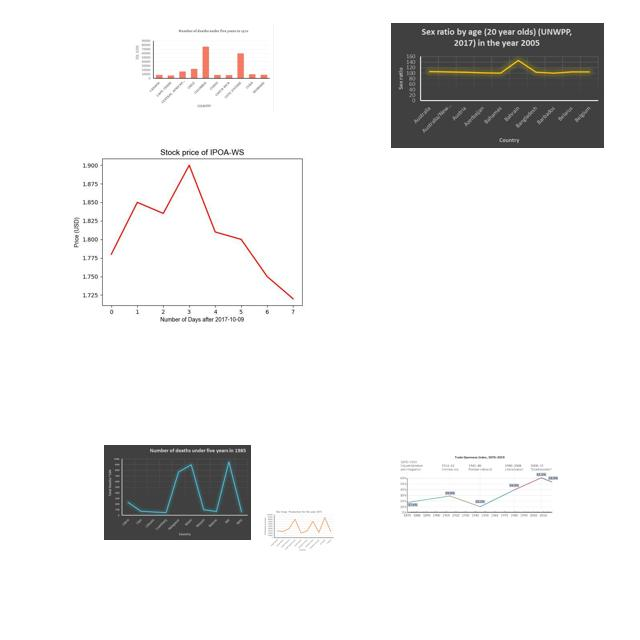Graph: (70, 134, 328, 328), (391, 23, 604, 148), (104, 445, 251, 540), (133, 24, 274, 112), (398, 452, 558, 518), (263, 509, 335, 551)
